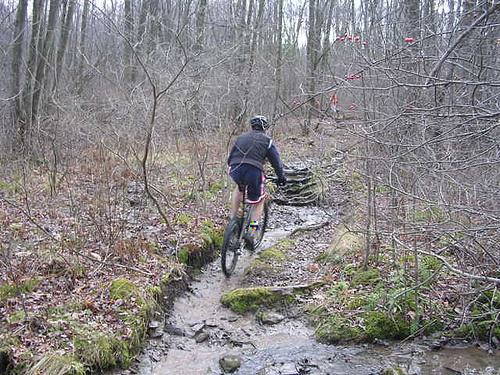car: (222, 174, 286, 276)
person: (226, 116, 287, 248)
